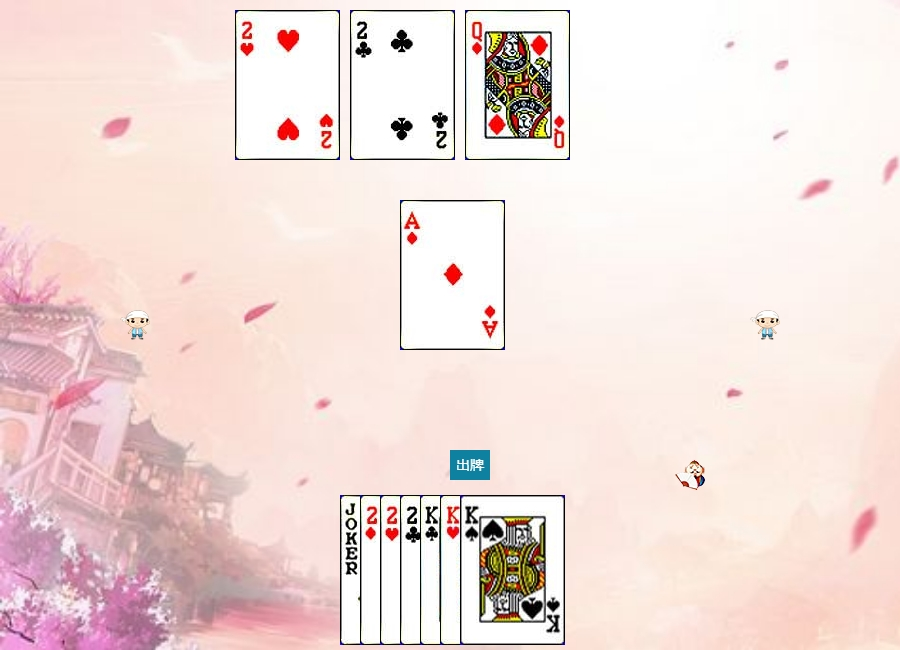12~1: (465, 10, 570, 160)
13~2: (420, 495, 525, 645)
13~3: (440, 495, 545, 645)
13~4: (460, 495, 565, 645)
14~1: (400, 200, 505, 350)
15~1: (360, 495, 465, 645)
15~2: (350, 10, 455, 160), (400, 495, 505, 645)
15~3: (235, 10, 340, 160), (380, 495, 485, 645)
17~3: (340, 495, 445, 645)
